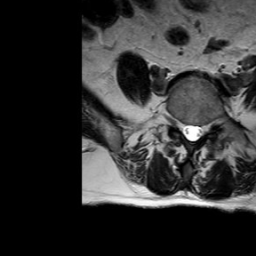CCS_normal: (188, 114, 195, 149)
LFS_normal: (203, 113, 211, 140)
LLS_normal: (195, 115, 203, 145)
RFS_normal: (173, 108, 181, 139)
RLS_normal: (181, 112, 188, 146)
